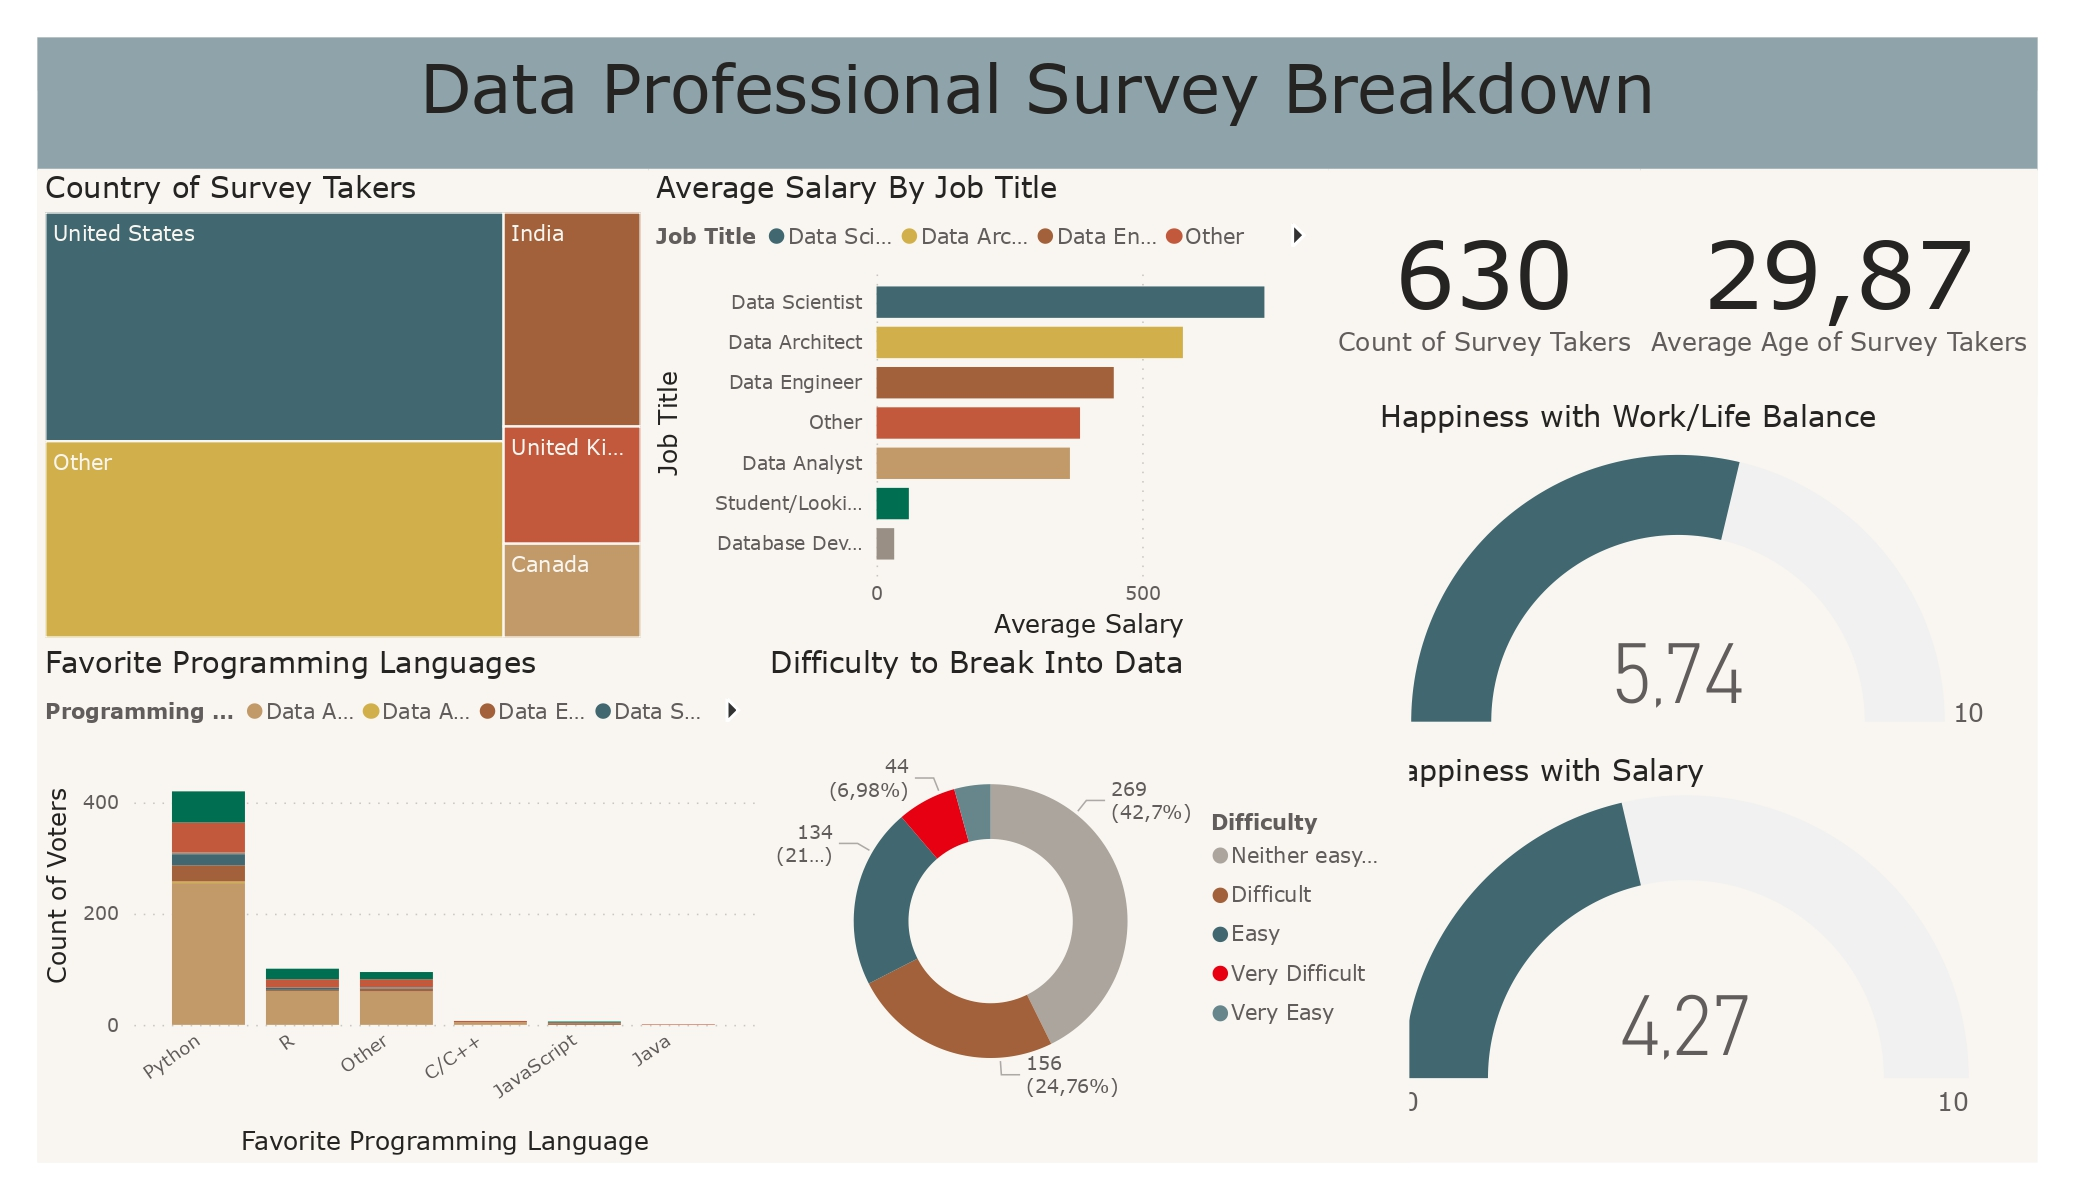

The page's visual inventory and layout, read from the dashboard file:
{"tool":"powerbi","page":{"name":"Page 1","canvas":[1280,720],"ordinal":0},"visuals":[{"type":"textbox","box":[0,0,1280.5,84.7],"z":0},{"type":"card","fields":{"Values":["CountNonNull(Data Professional Survey.Unique ID)"]},"box":[825.7,84.3,200,145.7],"z":1000},{"type":"card","fields":{"Values":["Avg(Data Professional Survey.Q10 - Current Age)"]},"box":[1025.7,84.3,254.3,145.7],"z":2000},{"type":"barChart","title":"Average Salary By Job Title","fields":{"Category":["Data Professional Survey.Q1 - Which Title Best Fits your Current Role?.1"],"Y":["Avg(Data Professional Survey.Average Salary)"],"Series":["Data Professional Survey.Q1 - Which Title Best Fits your Current Role?.1"]},"box":[391.4,84.3,434.3,304.3],"z":3000},{"type":"columnChart","title":"Favorite Programming Languages","fields":{"Category":["Data Professional Survey.Q5 - Favorite Programming Language.1"],"Y":["CountNonNull(Data Professional Survey.Unique ID)"],"Series":["Data Professional Survey.Q1 - Which Title Best Fits your Current Role?.1"]},"box":[0,388.2,464.5,331.8],"z":4000},{"type":"treemap","title":"Country of Survey Takers","fields":{"Group":["Data Professional Survey.Q11 - Which Country do you live in?.1"],"Values":["CountNonNull(Data Professional Survey.Q11 - Which Country do you live in?.1)"]},"box":[0,84.3,391.4,304.3],"z":5000},{"type":"gauge","title":"Happiness with Work/Life Balance","fields":{"Y":["Avg(Data Professional Survey.Q6 - How Happy are you in your Current Position with the following? (Work/Life Balance))"],"MinValue":["Min(Data Professional Survey.Q6 - How Happy are you in your Current Position with the following? (Work/Life Balance))"],"MaxValue":["Max(Data Professional Survey.Q6 - How Happy are you in your Current Position with the following? (Work/Life Balance))1"]},"box":[854.3,230,401.4,227.1],"z":6000},{"type":"gauge","title":"Happiness with Salary","fields":{"Y":["Avg(Data Professional Survey.Q6 - How Happy are you in your Current Position with the following? (Salary))"],"MinValue":["Min(Data Professional Survey.Q6 - How Happy are you in your Current Position with the following? (Salary))"],"MaxValue":["Max(Data Professional Survey.Q6 - How Happy are you in your Current Position with the following? (Salary))1"]},"box":[854.3,457.1,401.4,242.9],"z":7000},{"type":"donutChart","title":"Difficulty to Break Into Data","fields":{"Category":["Data Professional Survey.Q7 - How difficult was it for you to break into Data?"],"Y":["CountNonNull(Data Professional Survey.Q7 - How difficult was it for you to break into Data?)"]},"box":[464.5,388.2,413.6,331.8],"z":8000}]}

Visuals, with their boxes in screenshot pixels (x1, y1, x2, y2):
textbox: 38,38,2038,170
card - CountNonNull(Data Professional Survey.Unique ID): 1328,169,1640,397
card - Avg(Data Professional Survey.Q10 - Current Age): 1640,169,2038,397
"Average Salary By Job Title" barChart: 649,169,1328,645
"Favorite Programming Languages" columnChart: 38,644,763,1162
"Country of Survey Takers" treemap: 38,169,649,645
"Happiness with Work/Life Balance" gauge: 1372,397,2000,752
"Happiness with Salary" gauge: 1372,752,2000,1131
"Difficulty to Break Into Data" donutChart: 763,644,1410,1162
